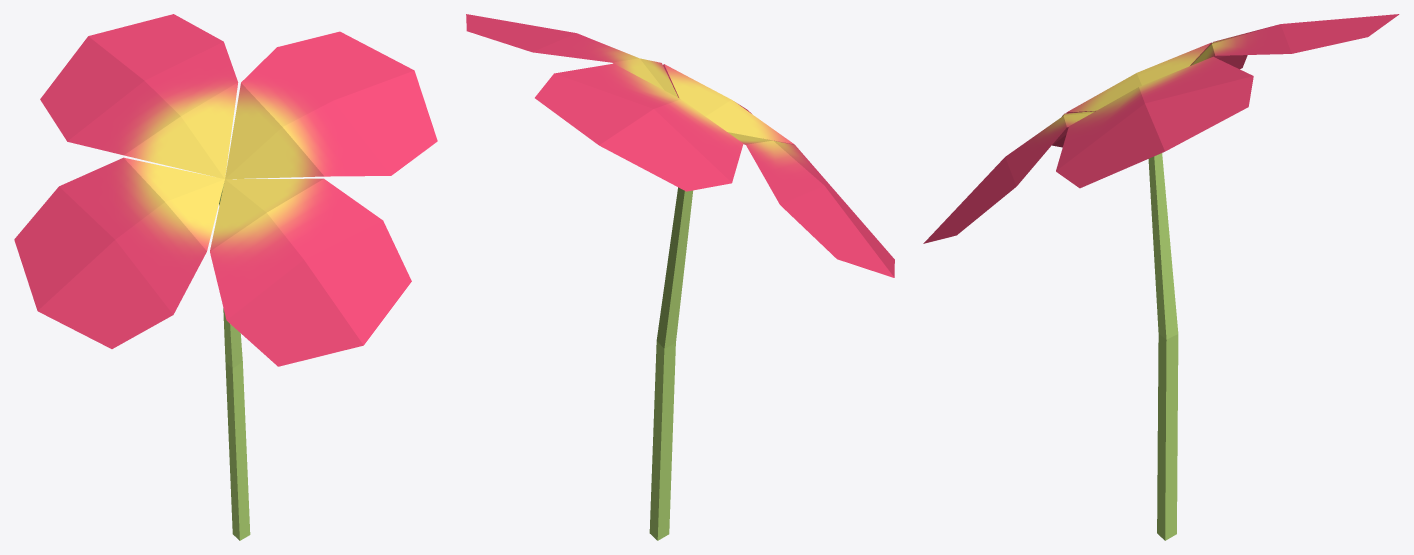
Rendered from Flower_c_TwoS_02.fbx.
3 views of the same model, side by side, from view 1: azimuth 30°, elevation 25°; view 2: azimuth 150°, elevation 25°; view 3: azimuth 270°, elevation 25° (orthographic). The views are drawn at different scales.
Visible parts, largest first — view 1: Flower_c_TwoS_02; view 2: Flower_c_TwoS_02; view 3: Flower_c_TwoS_02.
Part boxes in pixels (left/top/right/bottom): Flower_c_TwoS_02: left=14, top=14, right=437, bottom=540; Flower_c_TwoS_02: left=466, top=14, right=894, bottom=540; Flower_c_TwoS_02: left=923, top=14, right=1399, bottom=540.
Size of the model in its own units: 30.14 by 34.25 by 28.91.
